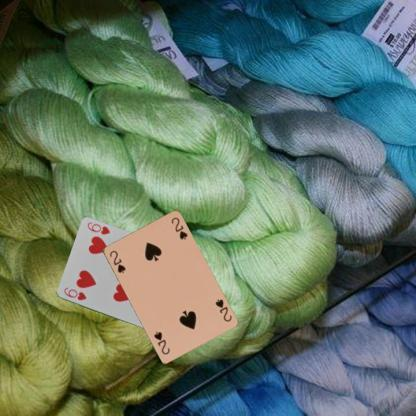2s: (106, 247, 127, 274), (212, 296, 233, 323)
6h: (62, 284, 88, 302)
